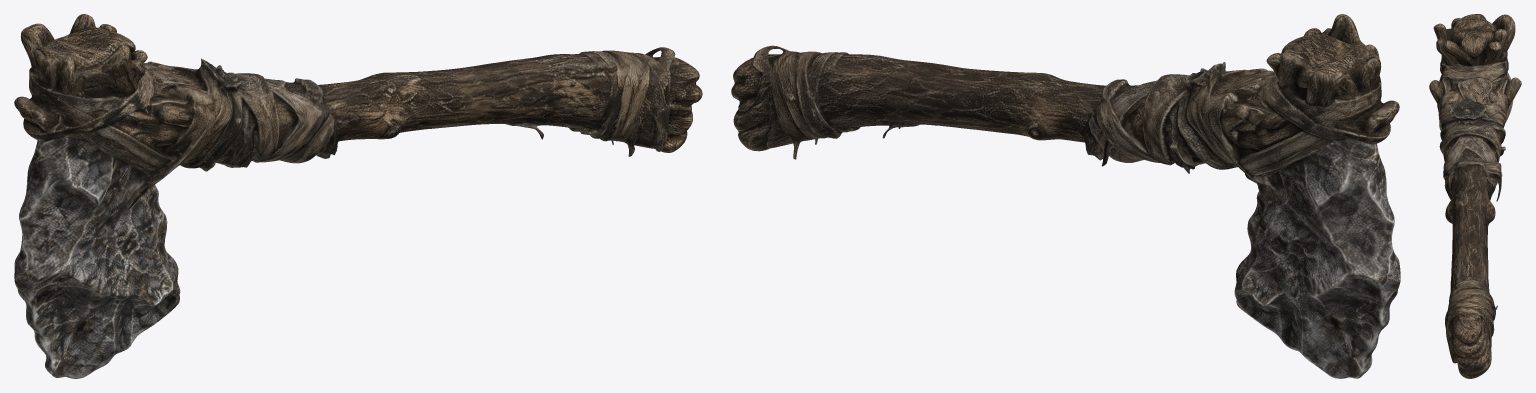
File: stone_axe_meshy.glb
3 renders of one model, left to right at view 1: azimuth 30°, elevation 25°; view 2: azimuth 150°, elevation 25°; view 3: azimuth 270°, elevation 25°, orthographic. The views are drawn at different scales.
Size of the model in its own units: 1.9 by 0.9212 by 0.3388.
Materials: 1 (1 with a texture image).
